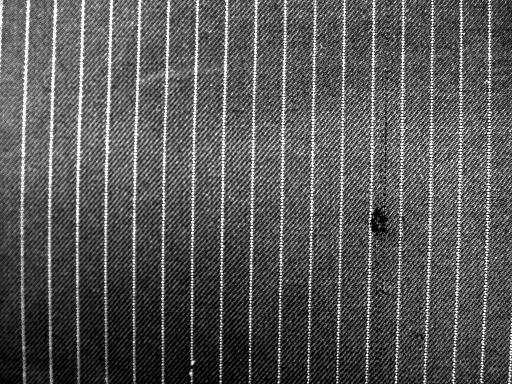fabric_hole: (350, 202, 403, 261)
